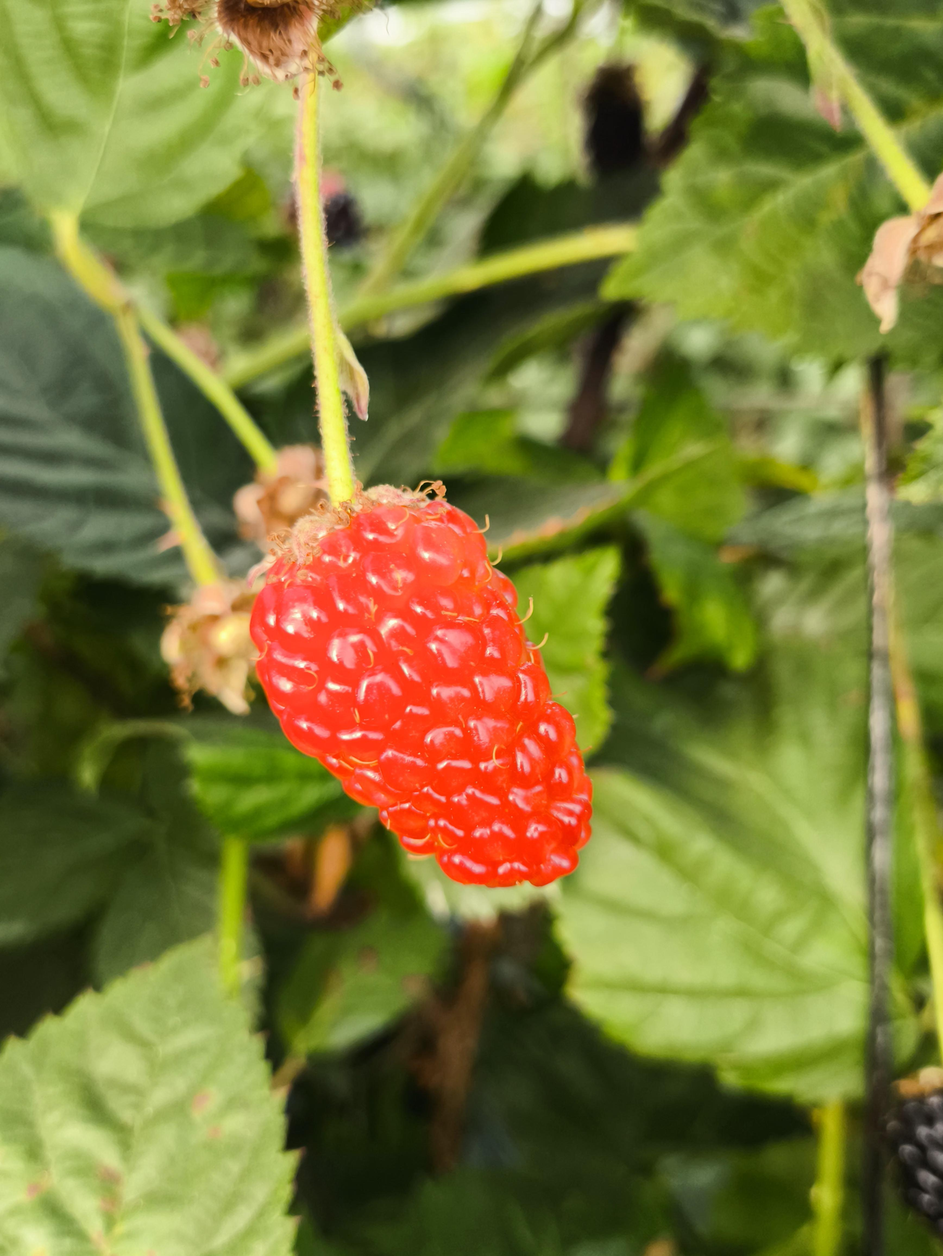naranja: (259, 494, 588, 881)
